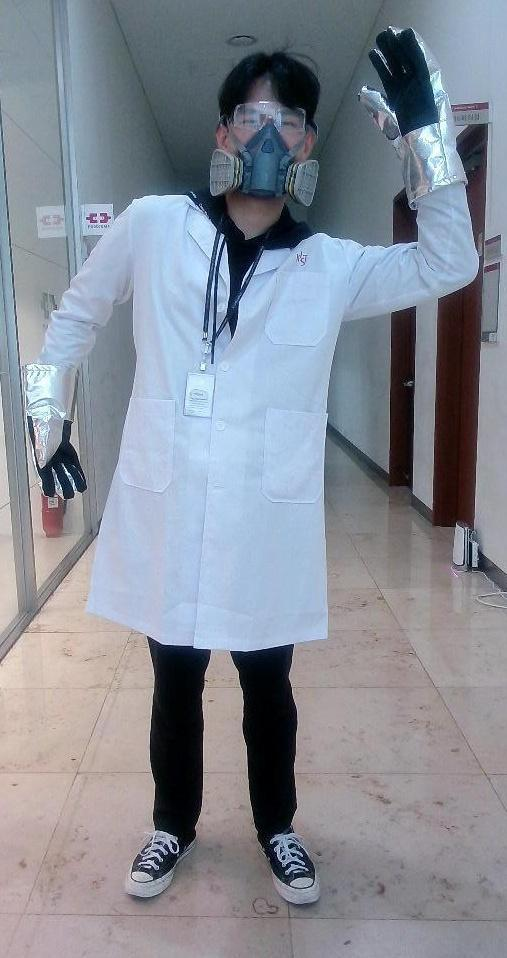lab_coat: (96, 252, 366, 636)
